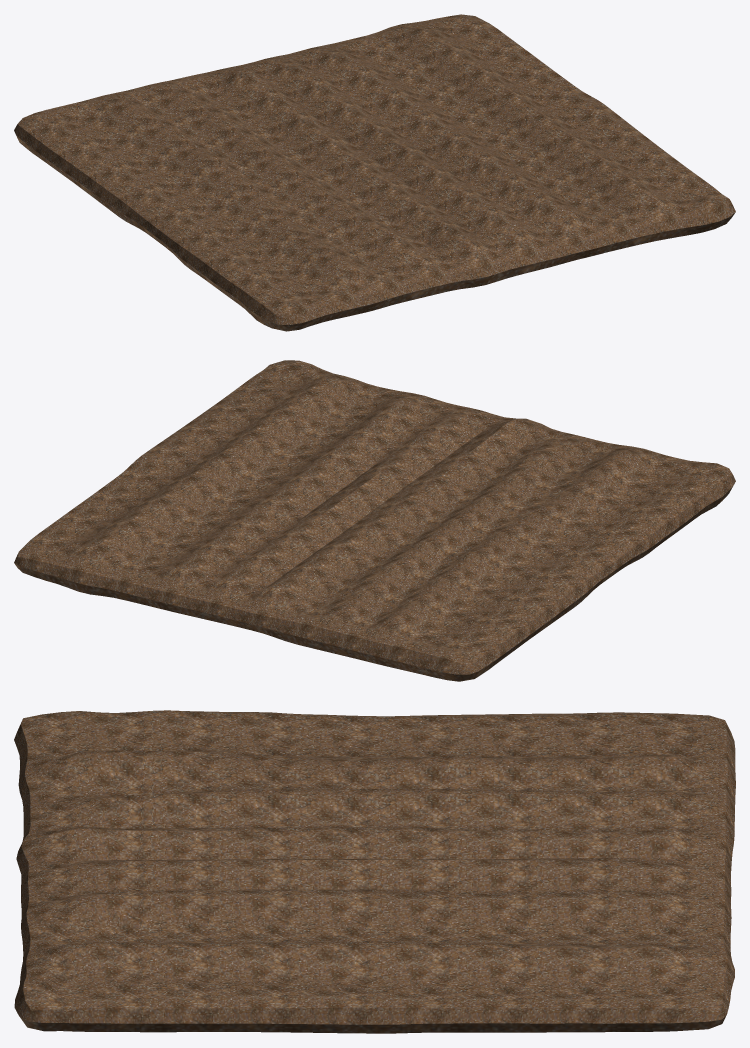
Rendered from uploads_files_3122138_field.fbx.
The picture shows the model from 3 angles, top to bottom: view 1: azimuth 30°, elevation 25°; view 2: azimuth 150°, elevation 25°; view 3: azimuth 270°, elevation 25°; orthographic projection. The views are drawn at different scales.
Visible parts, largest first — view 1: field_1; view 2: field_1; view 3: field_1.
Part boxes in pixels (x1,y1,x2,y2): field_1: [14, 14, 735, 331]; field_1: [14, 360, 735, 681]; field_1: [14, 710, 735, 1033].
Bounding box in the file's own units: 576 × 41.89 × 581.
